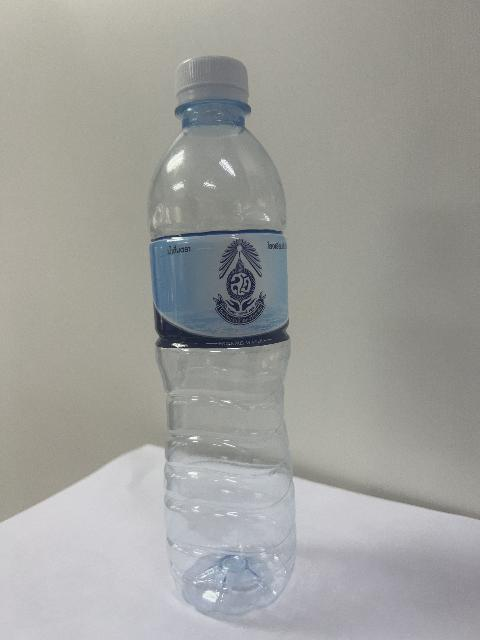bottle: (149, 57, 295, 614)
